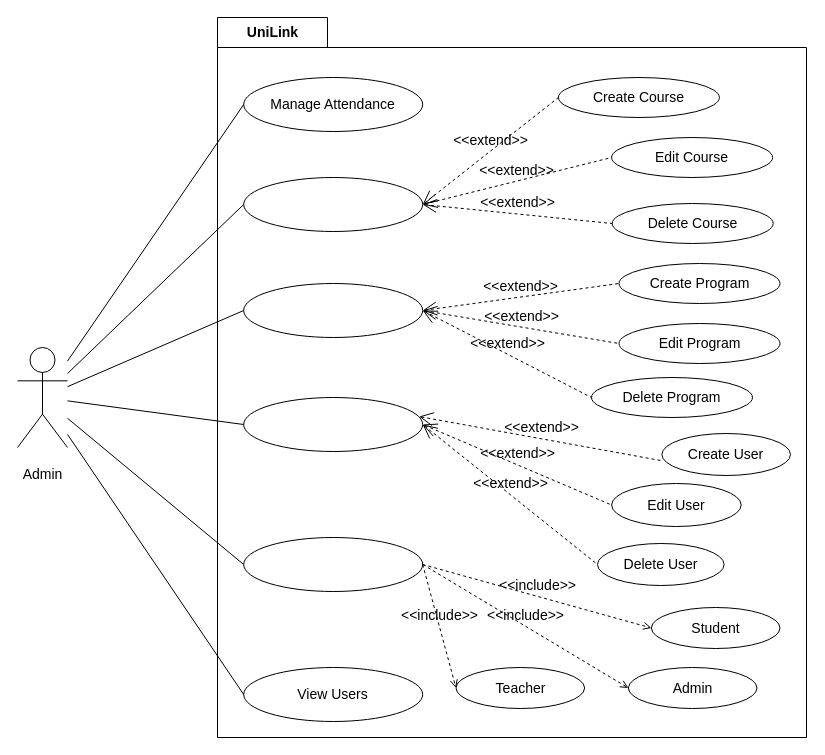
Some shapes in this 825 by 755 pixel diagram are drawn without their labels. The centre of each missing label's shape, as x and y in pixels:
"Assign Roles" belongs at [333,564].
"Manage Courses" belongs at [333,204].
"Manage Programs" belongs at [333,310].
"Manage Users" belongs at [333,424].
